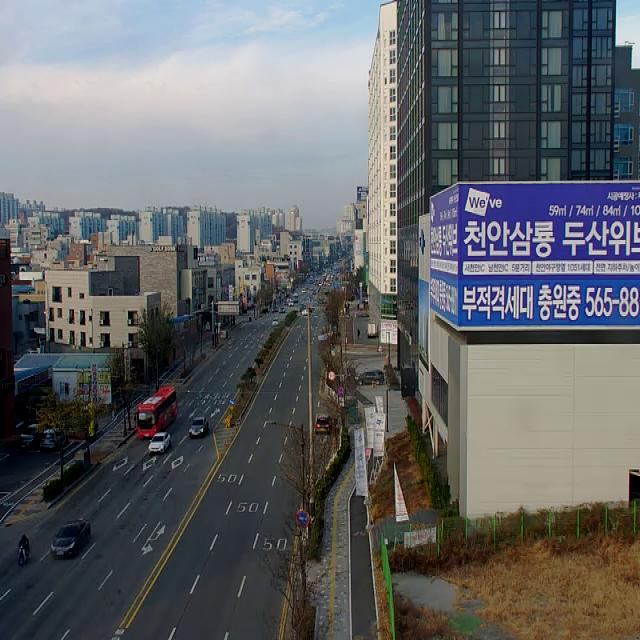Bus: (134, 386, 178, 440)
Car: (50, 520, 90, 558), (40, 427, 66, 451), (17, 424, 40, 450), (355, 368, 385, 384), (149, 433, 170, 453), (189, 417, 208, 438), (316, 418, 330, 434), (272, 318, 279, 326)
Motorcycle: (15, 533, 36, 572)
Truck: (368, 319, 379, 336)
